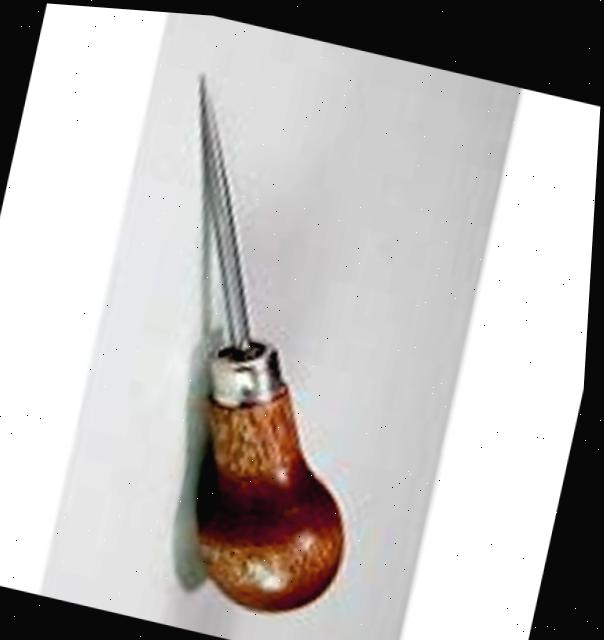ice pick: (94, 68, 443, 626)
